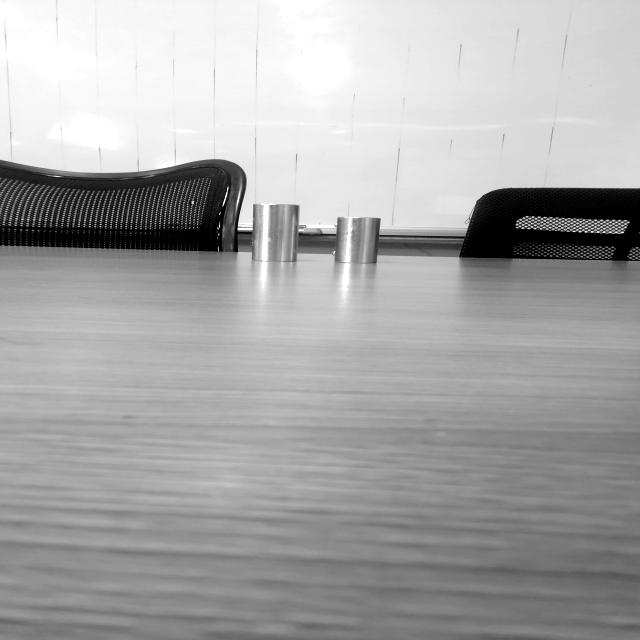Co_Lon: (252, 203, 299, 263)
Co_Nho: (334, 215, 380, 265)
